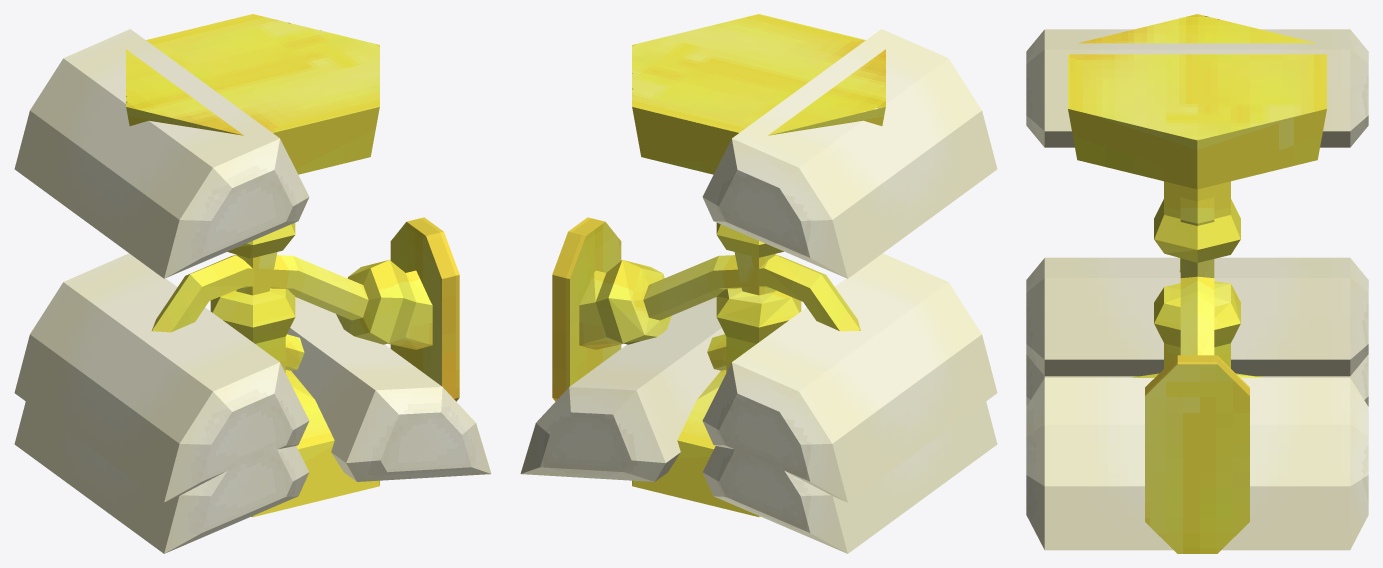
File: lamp.obj
The picture shows the model from 3 angles, left to right: view 1: azimuth 30°, elevation 25°; view 2: azimuth 150°, elevation 25°; view 3: azimuth 270°, elevation 25°; orthographic projection. The views are drawn at different scales.
Visible parts, largest first — view 1: lampTopWall, lampTopFloor, lampTopCeiling, ceilingPlate, wallPlate, baseFloor; view 2: lampTopWall, lampTopFloor, lampTopCeiling, ceilingPlate, wallPlate, baseFloor; view 3: lampTopCeiling, ceilingPlate, lampTopWall, wallPlate, lampTopFloor, baseFloor.
Boxes of the visible parts, <box> form: lampTopWall: <box>14,253,309,502</box>; lampTopFloor: <box>14,29,309,278</box>; lampTopCeiling: <box>14,297,491,553</box>; ceilingPlate: <box>126,14,379,370</box>; wallPlate: <box>152,217,459,401</box>; baseFloor: <box>210,252,379,516</box>; lampTopWall: <box>702,253,997,502</box>; lampTopFloor: <box>702,29,997,278</box>; lampTopCeiling: <box>520,297,997,553</box>; ceilingPlate: <box>632,14,885,370</box>; wallPlate: <box>552,217,860,401</box>; baseFloor: <box>632,252,801,516</box>; lampTopCeiling: <box>1026,354,1368,550</box>; ceilingPlate: <box>1068,14,1326,262</box>; lampTopWall: <box>1026,257,1368,376</box>; wallPlate: <box>1145,258,1249,553</box>; lampTopFloor: <box>1026,29,1368,147</box>; baseFloor: <box>1132,197,1262,377</box>.
Bounding box in the file's own units: 0.951 × 1.02 × 0.8.
